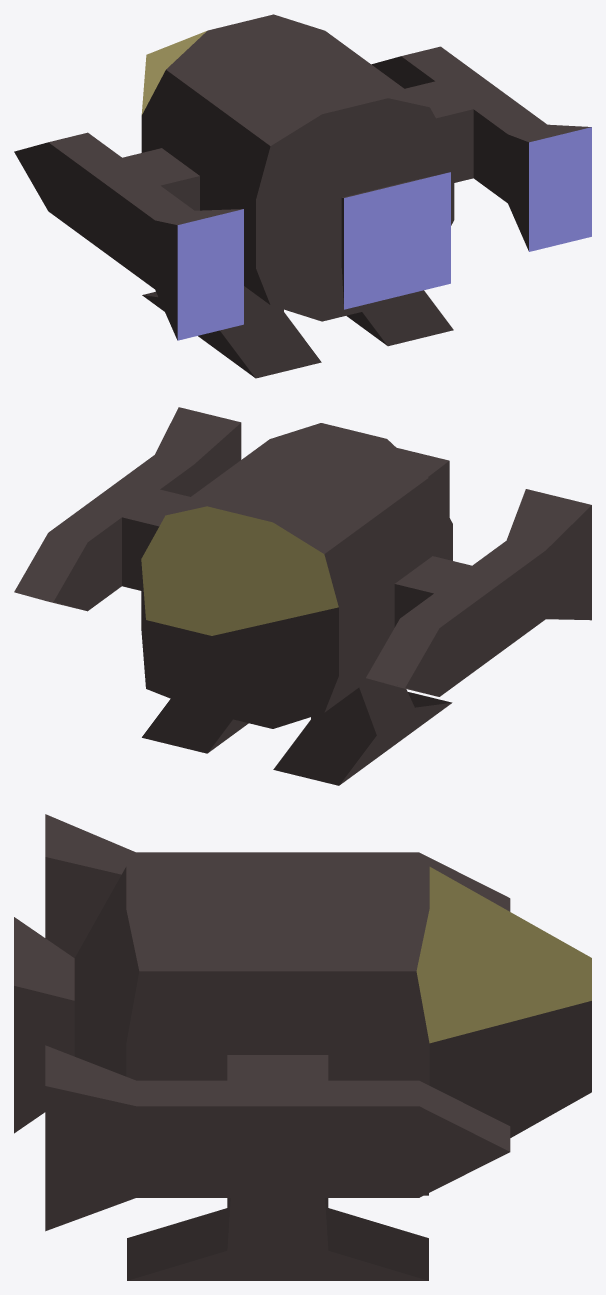
File: low-poly-spaceship-2.dae
3 renders of one model, top to bottom at view 1: azimuth 30°, elevation 25°; view 2: azimuth 150°, elevation 25°; view 3: azimuth 270°, elevation 25°, orthographic. The views are drawn at different scales.
Visible parts, largest first — view 1: Spaceship, Spaceship_RocketApertures, Spaceship_Window; view 2: Spaceship, Spaceship_Window; view 3: Spaceship, Spaceship_Window.
Boxes of the visible parts, x1,y1,x2,y2 form: Spaceship: (14,14,591,378); Spaceship_RocketApertures: (177,127,591,340); Spaceship_Window: (141,31,206,114); Spaceship: (14,407,591,785); Spaceship_Window: (141,506,338,635); Spaceship: (14,814,591,1280); Spaceship_Window: (416,867,591,1043).
Size of the model in its own units: 2.09 by 1.2 by 1.91.
